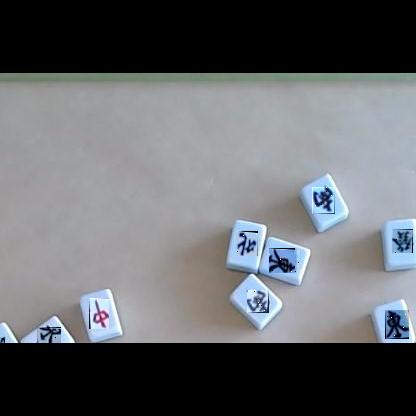1z: (270, 248, 300, 273), (385, 310, 409, 339), (37, 327, 61, 343), (0, 337, 5, 343)
2z: (312, 187, 335, 214), (247, 290, 269, 313)
4z: (236, 231, 258, 256)
6z: (392, 229, 413, 253)
7z: (89, 298, 109, 329)
